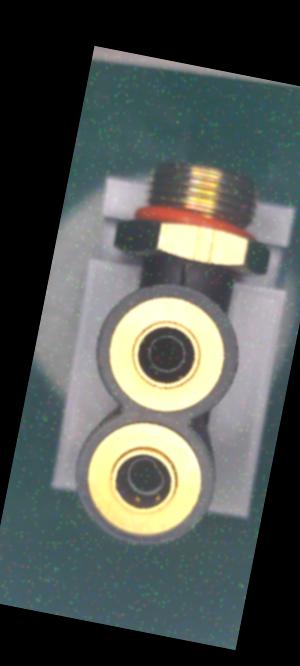craze: (175, 255, 193, 285)
off-centered: (118, 448, 173, 504)
